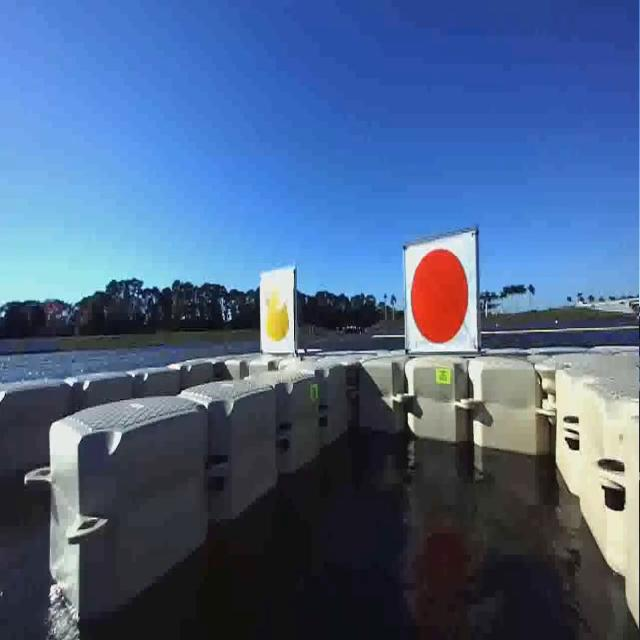red-dot: (402, 242, 478, 354)
yellow-duck: (260, 273, 294, 358)
